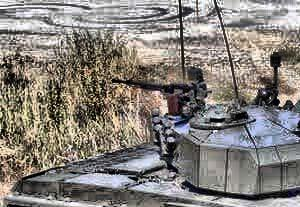tanks: (6, 69, 300, 207)
